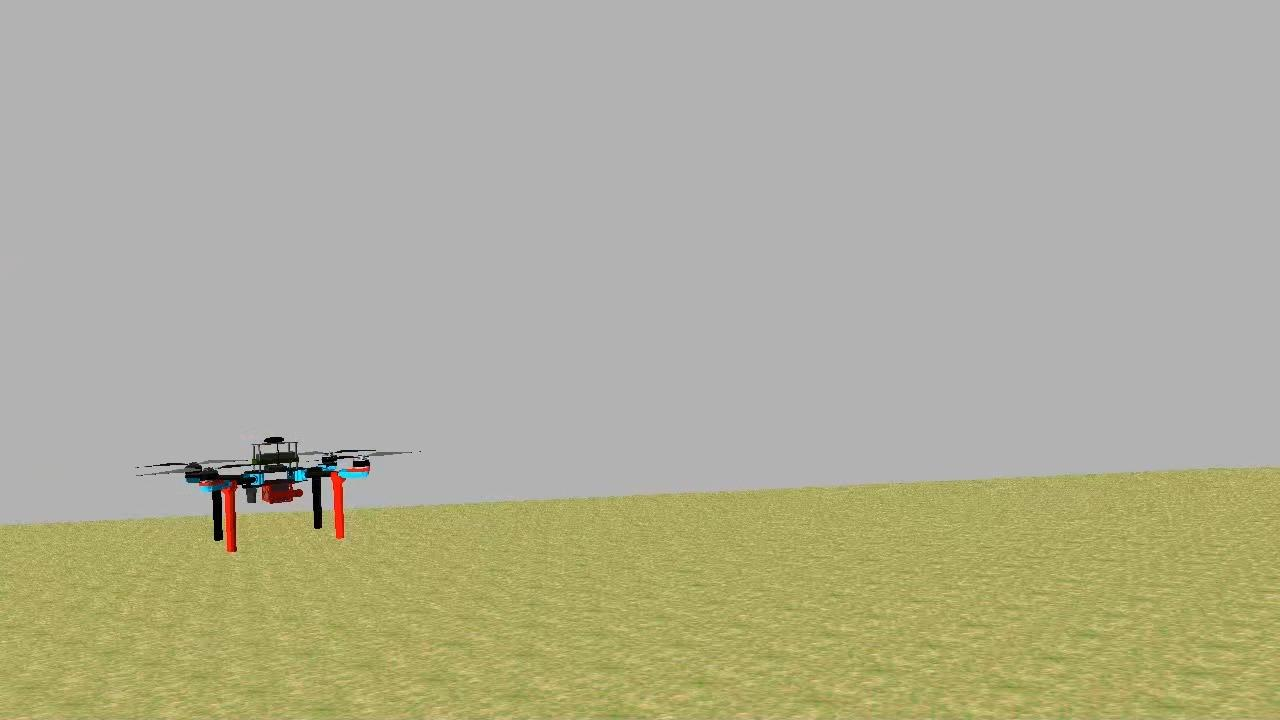UAV: (180, 434, 372, 558)
